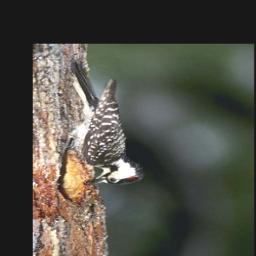Woodpecker: (56, 59, 149, 187)
